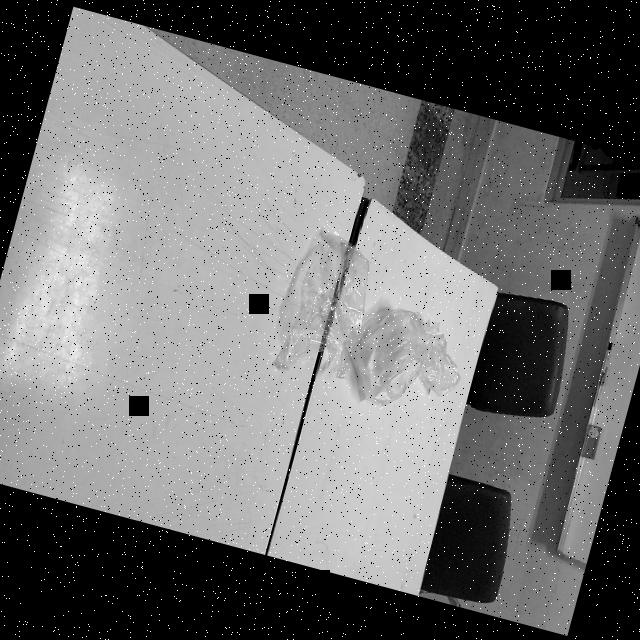plastic_bag: (266, 216, 390, 391), (337, 282, 441, 416), (408, 318, 482, 401)
